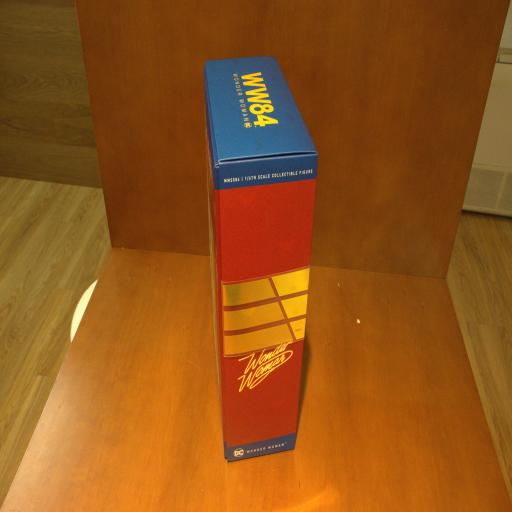WonderWoman: (203, 53, 320, 462)
